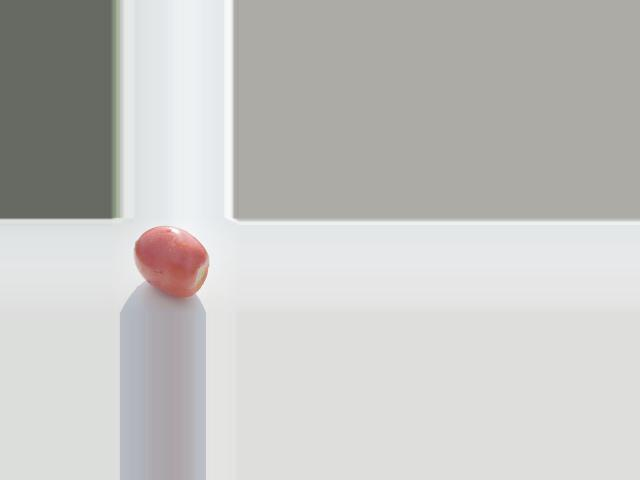tomato: (133, 225, 209, 297)
